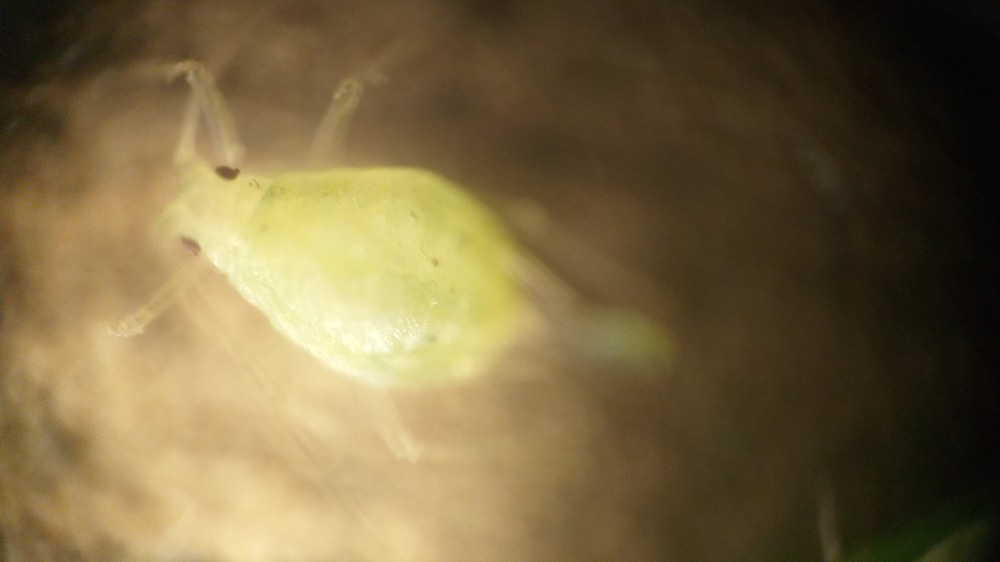Pulgon: (94, 41, 687, 471)
